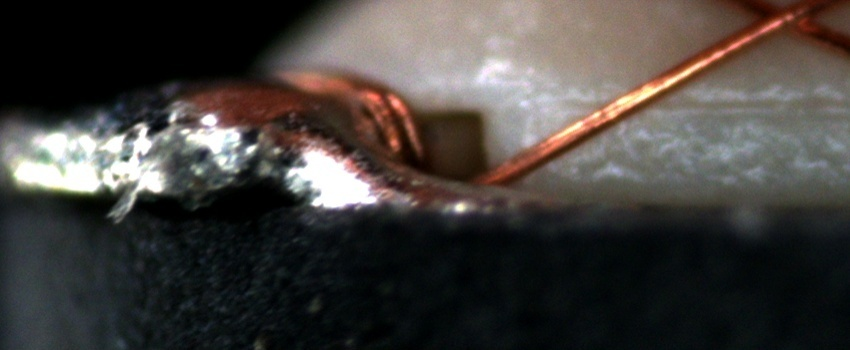CL: (735, 0, 822, 44)
DL: (552, 75, 849, 132)
TE: (298, 64, 436, 162)
